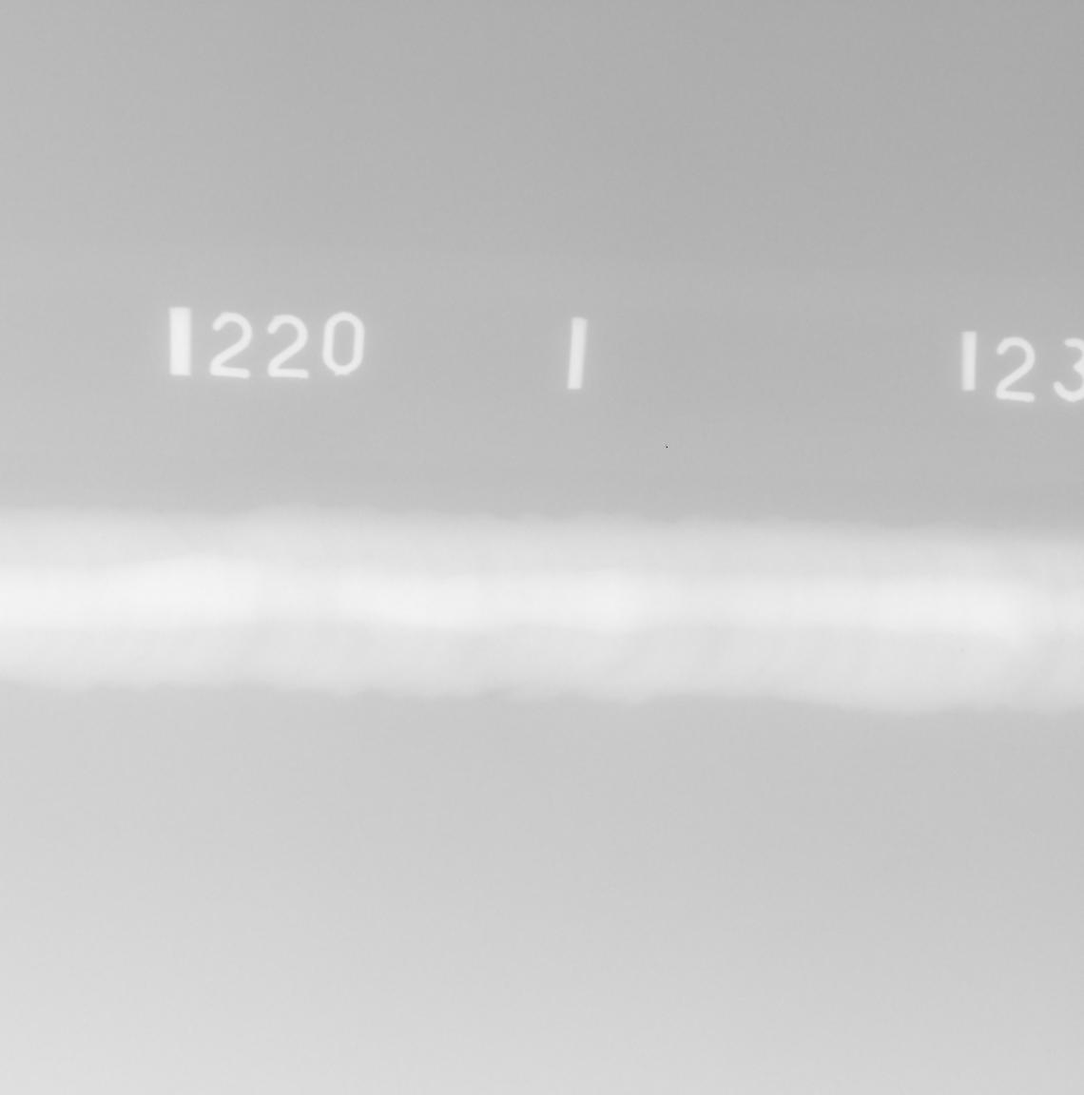Pore/Porosity: (958, 646, 966, 655)
